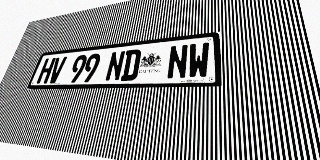9: (81, 53, 102, 82), (68, 54, 88, 83)
D: (120, 49, 142, 81)
H: (36, 58, 56, 84)
N: (166, 44, 188, 79), (104, 50, 126, 82)
V: (47, 56, 67, 83)
W: (187, 42, 209, 79)
